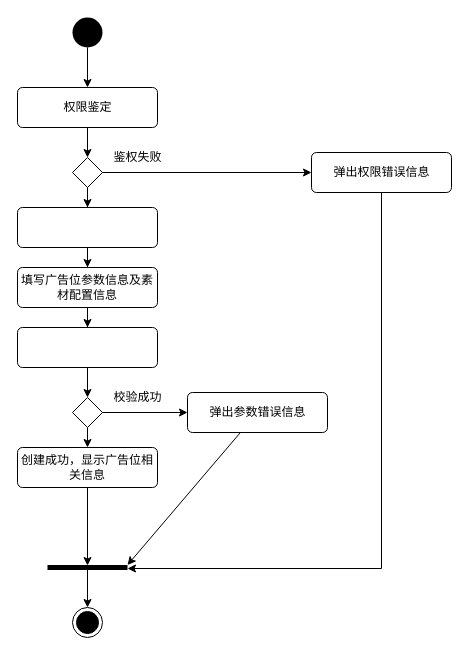
This 469x655 diagram has some shape labels left out. The shapes that lost their labels are listed below. From the top down, each one's centre as x and y in pixels, then its label:
At point 87,227: "进入广告位信息填写页面".
At point 87,347: "参数校验".
